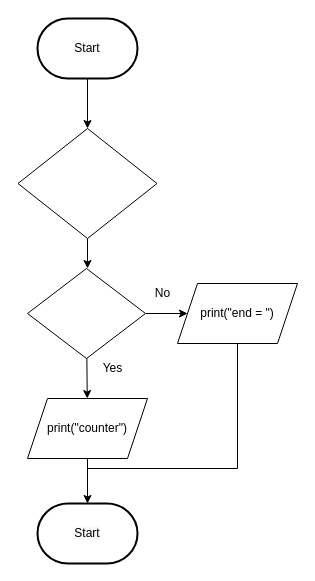
The diagram is 315 pixels wide and 581 high, and some of its shapes have lost their labels. The shapes that lost their labels are listed below. From the top down, each one's centre as x and y in pixels, then its label:
At point 87,183: "for counter = 1000 counter1 < 2001 counter++".
At point 86,313: "if counter %5 == 4:".
